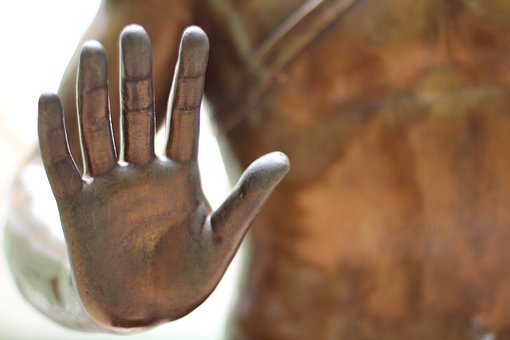palm: (75, 174, 222, 309)
